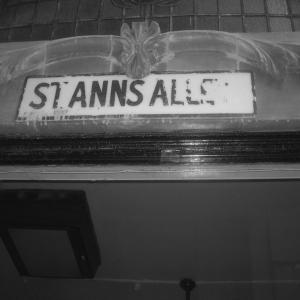Vehicle-registration-plate: (95, 55, 269, 122)
